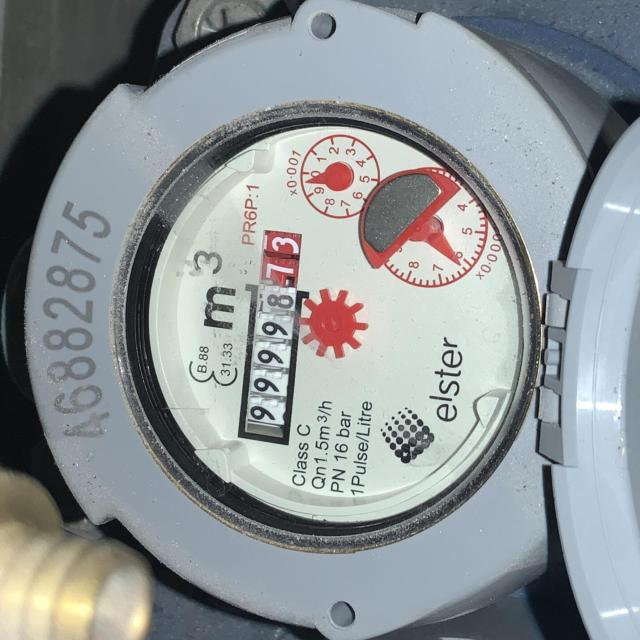gaz_meter: (134, 115, 536, 529)
indication: (244, 227, 302, 440)
